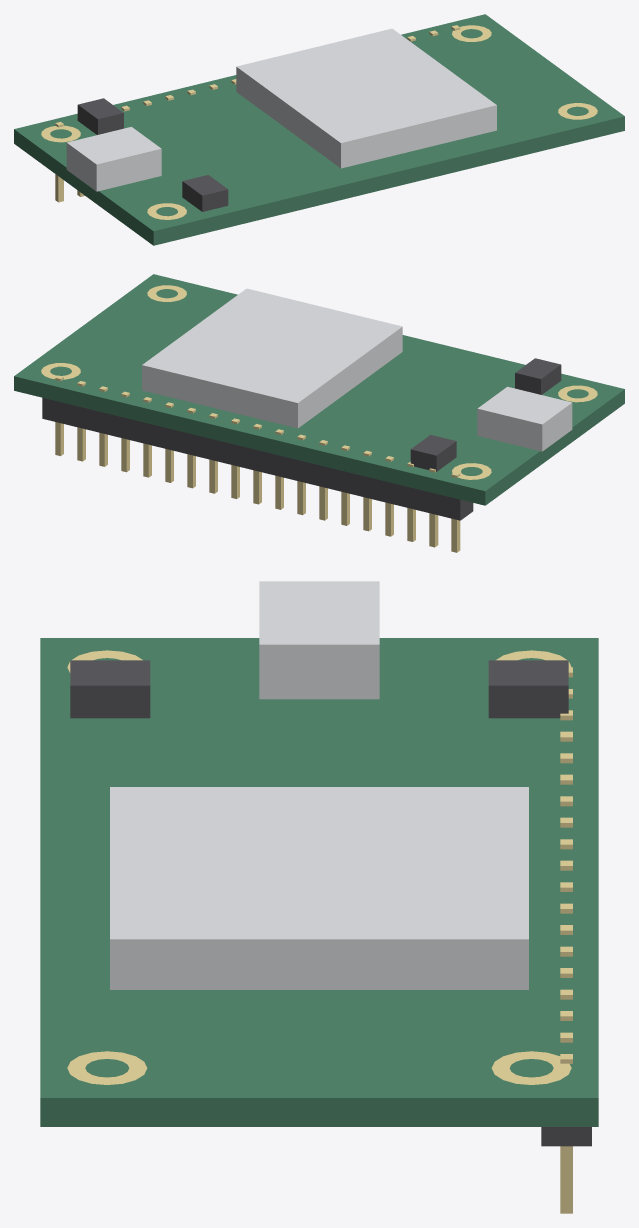
Rendered from esp32-devkitc-32e.glb.
3 views of the same model, one above another, from view 1: azimuth 30°, elevation 25°; view 2: azimuth 150°, elevation 25°; view 3: azimuth 270°, elevation 25° (orthographic). The views are drawn at different scales.
Parts seen in each view (by area): view 1: esp32-devkitc-32e-pcb, esp32-devkitc-32e-metal, esp32-devkitc-32e-plastic, esp32-devkitc-32e-mounting-pads, esp32-devkitc-32e-pins; view 2: esp32-devkitc-32e-pcb, esp32-devkitc-32e-metal, esp32-devkitc-32e-plastic, esp32-devkitc-32e-pins, esp32-devkitc-32e-mounting-pads; view 3: esp32-devkitc-32e-pcb, esp32-devkitc-32e-metal, esp32-devkitc-32e-plastic, esp32-devkitc-32e-mounting-pads, esp32-devkitc-32e-pins.
Boxes of the visible parts, left/top/right/bottom form: esp32-devkitc-32e-pcb: left=14, top=14, right=624, bottom=245; esp32-devkitc-32e-metal: left=66, top=28, right=496, bottom=191; esp32-devkitc-32e-plastic: left=77, top=98, right=228, bottom=211; esp32-devkitc-32e-mounting-pads: left=41, top=25, right=597, bottom=219; esp32-devkitc-32e-pins: left=55, top=25, right=460, bottom=202; esp32-devkitc-32e-pcb: left=14, top=274, right=624, bottom=505; esp32-devkitc-32e-metal: left=142, top=288, right=572, bottom=451; esp32-devkitc-32e-plastic: left=42, top=358, right=561, bottom=520; esp32-devkitc-32e-pins: left=55, top=375, right=460, bottom=552; esp32-devkitc-32e-mounting-pads: left=41, top=285, right=597, bottom=479; esp32-devkitc-32e-pcb: left=40, top=638, right=598, bottom=1126; esp32-devkitc-32e-metal: left=110, top=581, right=528, bottom=989; esp32-devkitc-32e-plastic: left=70, top=660, right=591, bottom=1146; esp32-devkitc-32e-mounting-pads: left=67, top=650, right=571, bottom=1084; esp32-devkitc-32e-pins: left=560, top=667, right=572, bottom=1213.
Bounding box in the file's own units: 0.0547 × 0.0112 × 0.0279.
